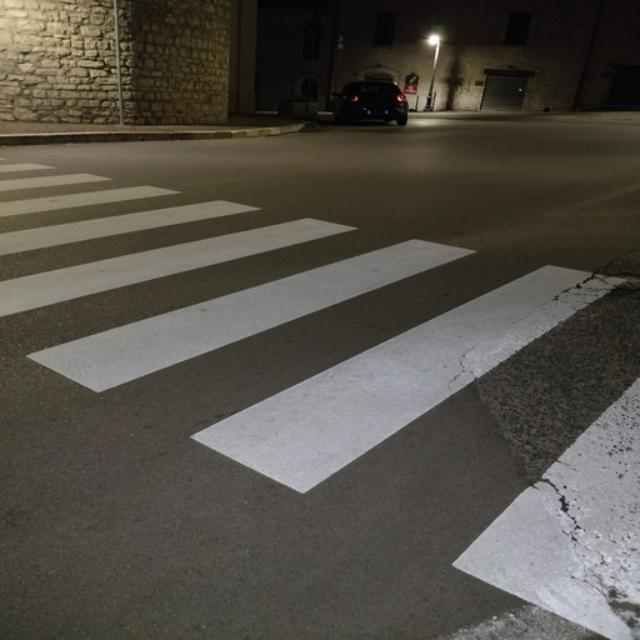sidewalk: (0, 159, 640, 640)
